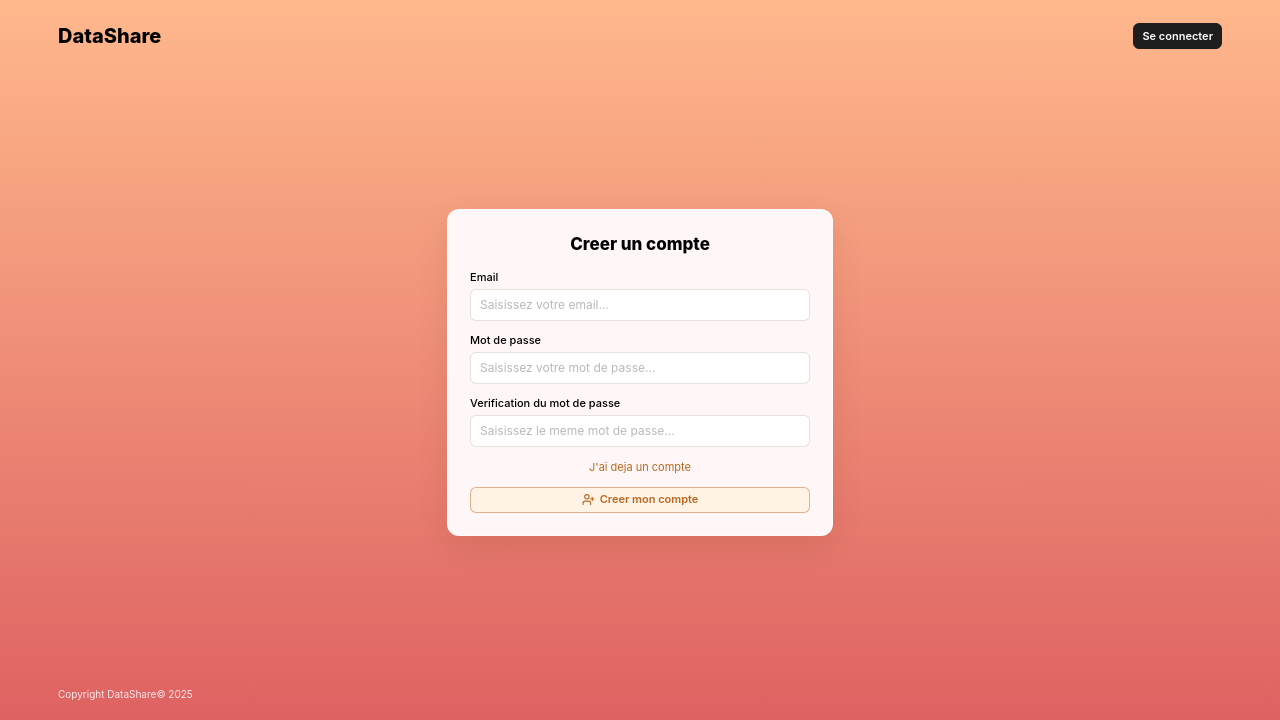
it: authentication flows › registers a new user and opens Mon espace history
Type "new-user@example.com" into the field named "email" at [640, 305], box [470,289,810,321]
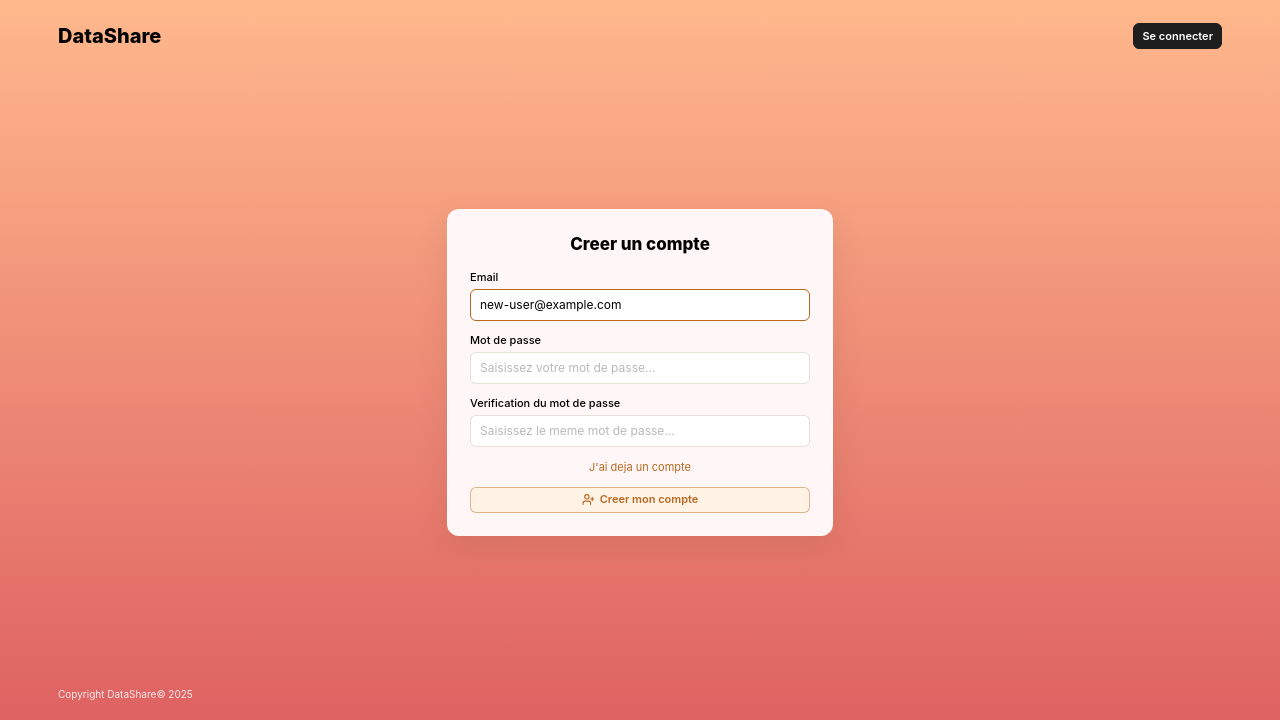
Type "Password123" into the password field named "password" at [640, 368], box [470,352,810,384]
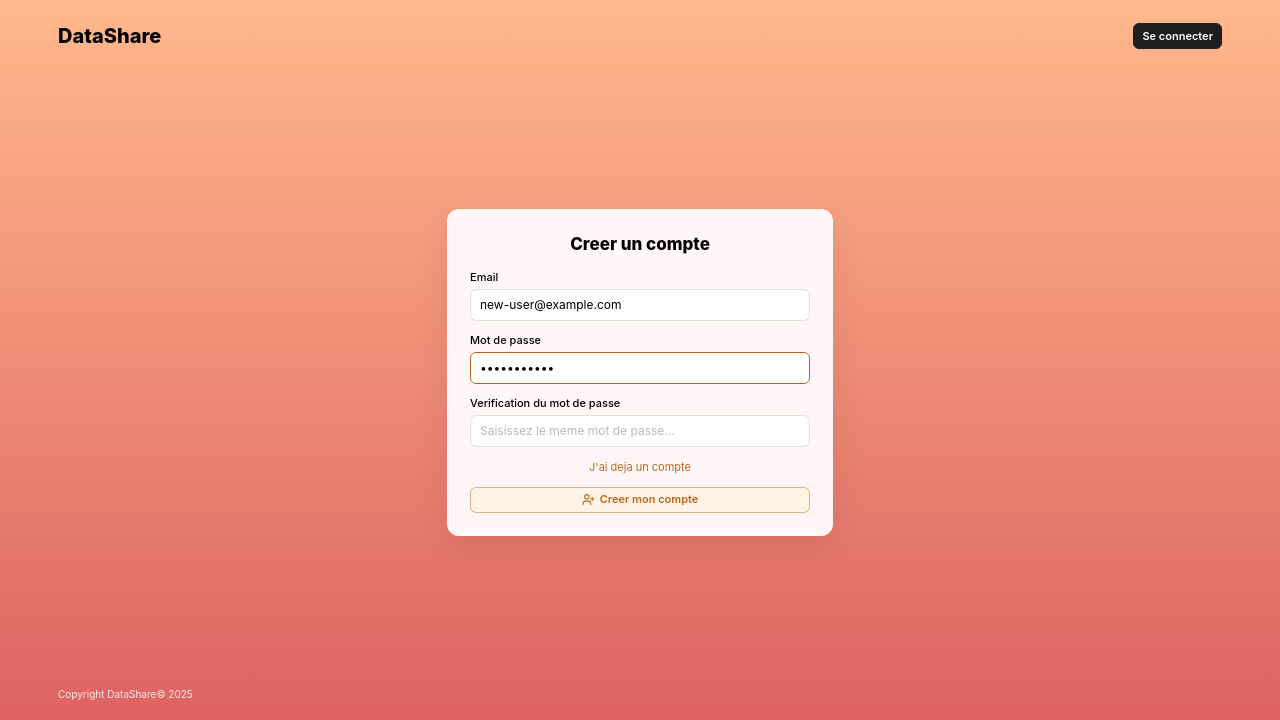
Type "Password123" into the password field named "passwordConfirmation" at [640, 431], box [470,415,810,447]
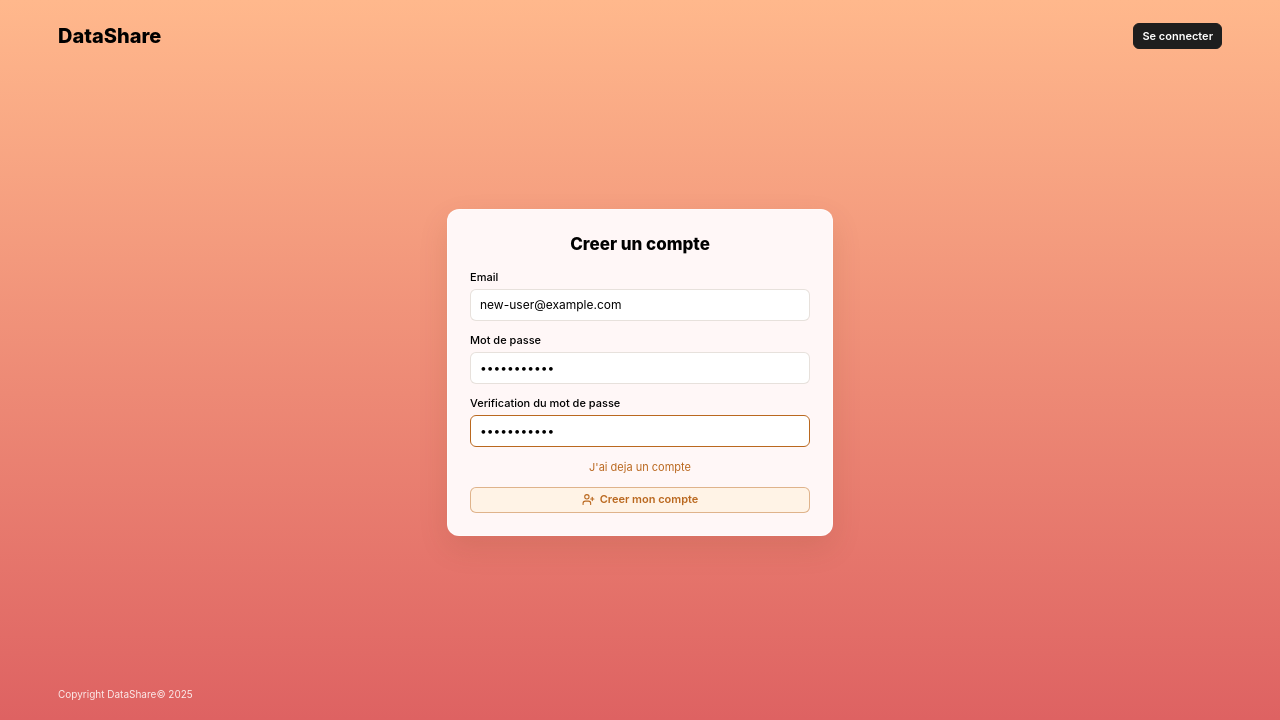
Click the button "Creer mon compte" at [640, 500], box [470,487,810,513]
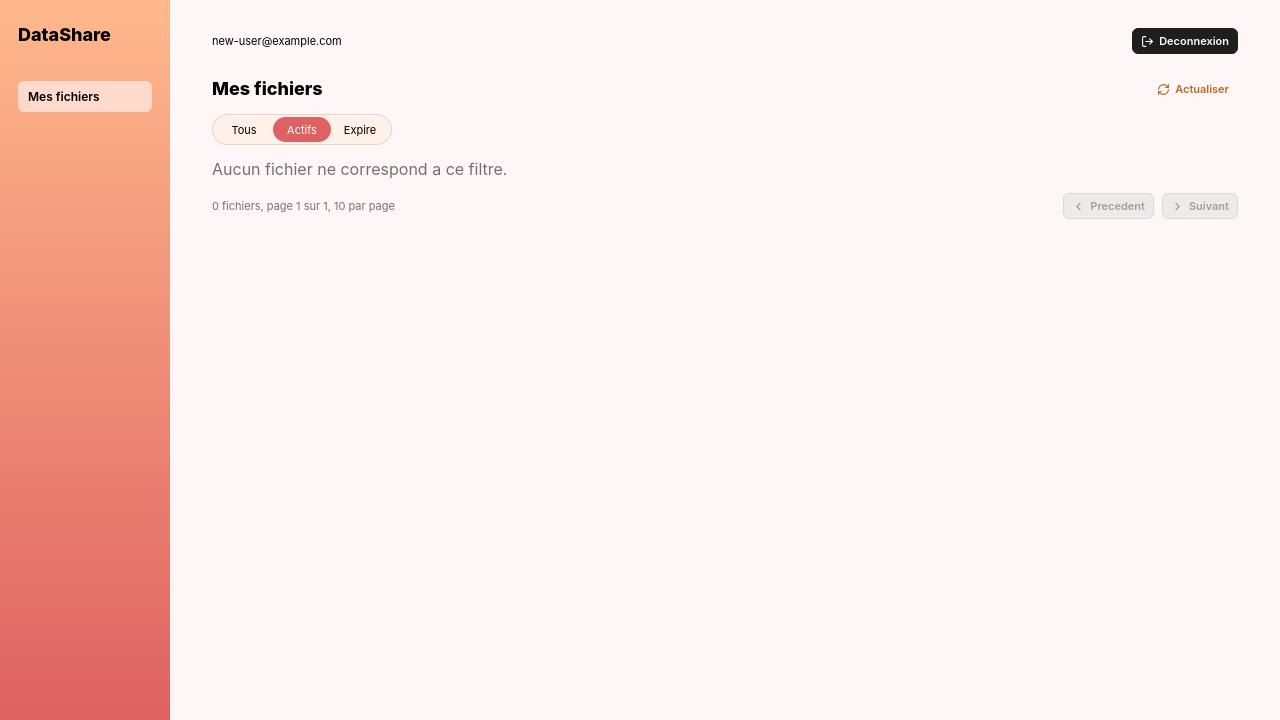
Check: the link "Mes fichiers" is shown, box [18,81,152,112]
